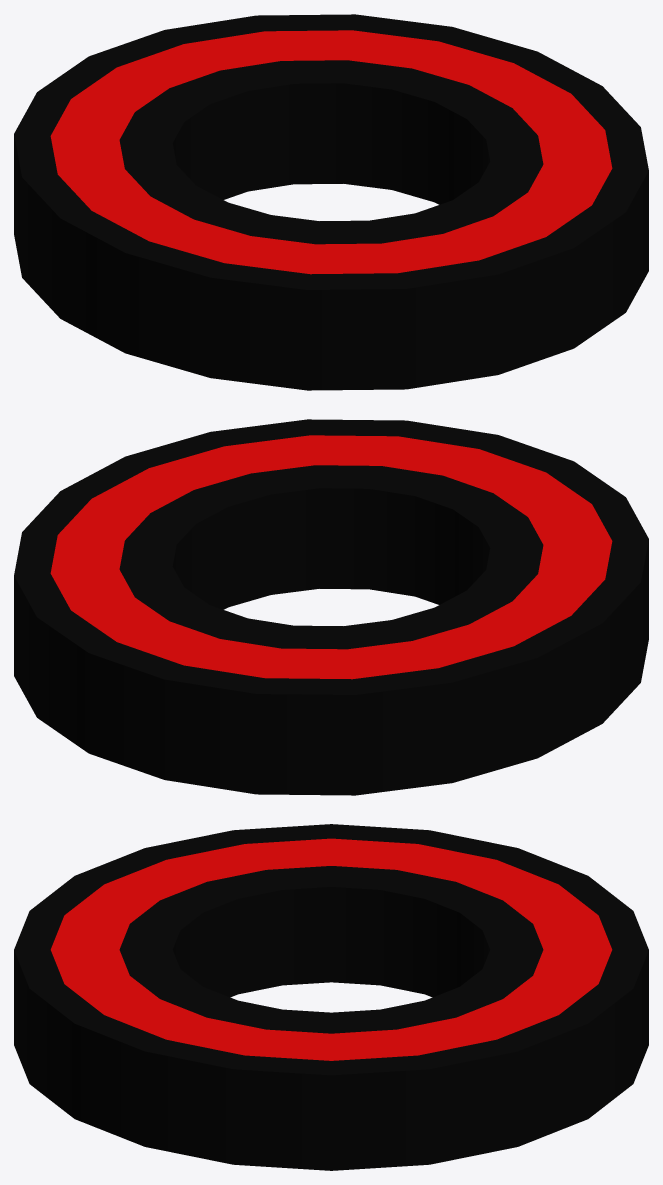
The picture shows the model from 3 angles, top to bottom: view 1: azimuth 30°, elevation 25°; view 2: azimuth 150°, elevation 25°; view 3: azimuth 270°, elevation 25°; orthographic projection. The views are drawn at different scales.
Parts seen in each view (by area): view 1: pPipe1; view 2: pPipe1; view 3: pPipe1.
Part boxes in pixels (bbox=[...]): pPipe1: bbox=[14, 14, 648, 390]; pPipe1: bbox=[14, 419, 648, 795]; pPipe1: bbox=[14, 824, 648, 1170].
Size of the model in its own units: 26.1 by 4.62 by 27.86.
